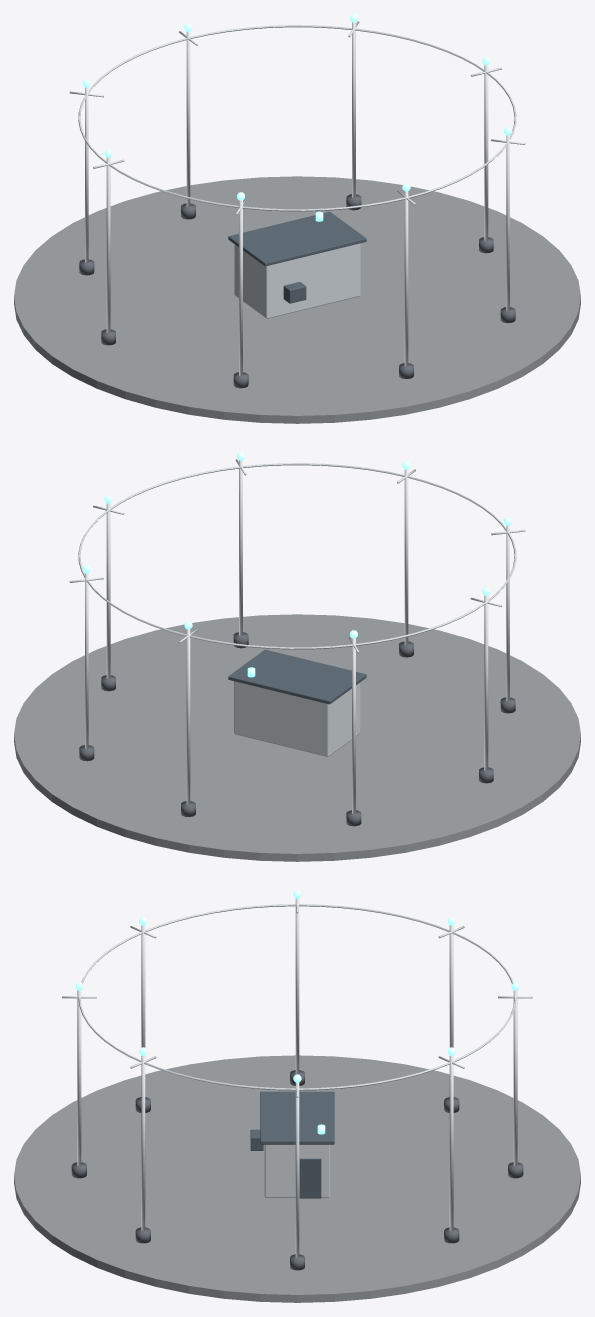
Rendered from df_station.glb.
3 views of the same model, one above another, from view 1: azimuth 30°, elevation 25°; view 2: azimuth 150°, elevation 25°; view 3: azimuth 270°, elevation 25° (orthographic).
Parts seen in each view (by area): view 1: Pad, Shelter, Roof, RingCable, Mast4, Mast6, Mast0, Mast2, Mast7, Mast1, Mast5, Mast3; view 2: Pad, Shelter, Roof, RingCable, Mast4, Mast2, Mast0, Mast6, Mast1, Mast3, Mast7, Mast5; view 3: Pad, Roof, RingCable, Shelter, Door, Mast1, Mast7, Mast0, Mast4, Mast2, Mast6, Mast3 (+1 smaller).
Part boxes in pixels (box(x1,y1,x2,y2)): Pad: box(14, 176, 580, 423); Shelter: box(234, 243, 360, 318); Roof: box(228, 211, 366, 266); RingCable: box(78, 25, 516, 211); Mast4: box(106, 157, 110, 332); Mast6: box(404, 191, 408, 366); Mast0: box(484, 65, 488, 240); Mast2: box(186, 31, 190, 207); Mast7: box(506, 135, 509, 310); Mast1: box(352, 22, 355, 197); Mast5: box(239, 200, 242, 375); Mast3: box(85, 87, 88, 263); Pad: box(14, 614, 580, 861); Shelter: box(234, 681, 360, 756); Roof: box(228, 649, 366, 704); RingCable: box(78, 463, 516, 649); Mast4: box(484, 595, 488, 770); Mast2: box(186, 629, 190, 804); Mast0: box(106, 503, 110, 678); Mast6: box(404, 469, 408, 645); Mast1: box(85, 573, 88, 748); Mast3: box(352, 638, 355, 813); Mast7: box(239, 460, 242, 635); Mast5: box(506, 525, 509, 701); Pad: box(14, 1055, 580, 1302); Roof: box(260, 1091, 334, 1144); RingCable: box(78, 904, 516, 1090); Shelter: box(264, 1144, 330, 1197); Door: box(299, 1158, 321, 1198); Mast1: box(449, 1055, 453, 1231); Mast7: box(141, 1055, 145, 1231); Mast0: box(295, 1082, 299, 1258); Mast4: box(295, 898, 299, 1073); Mast2: box(513, 990, 517, 1165); Mast6: box(77, 990, 81, 1165); Mast3: box(449, 925, 453, 1047).
Size of the model in its own units: 26 by 10.15 by 26.
